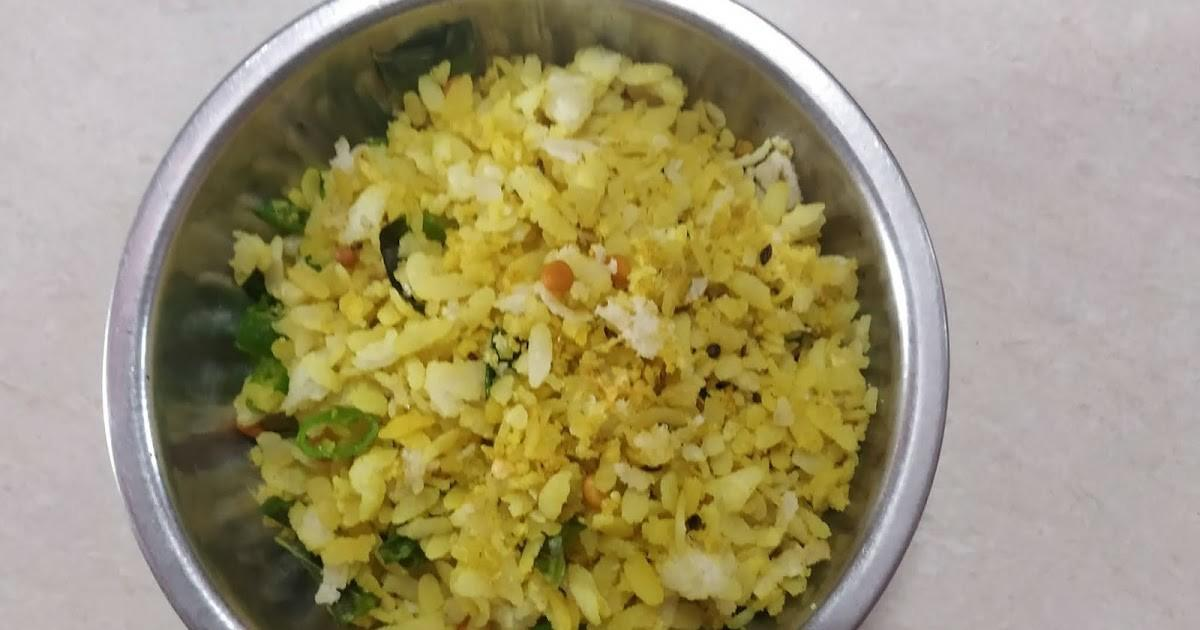Poha: (217, 37, 889, 630)
